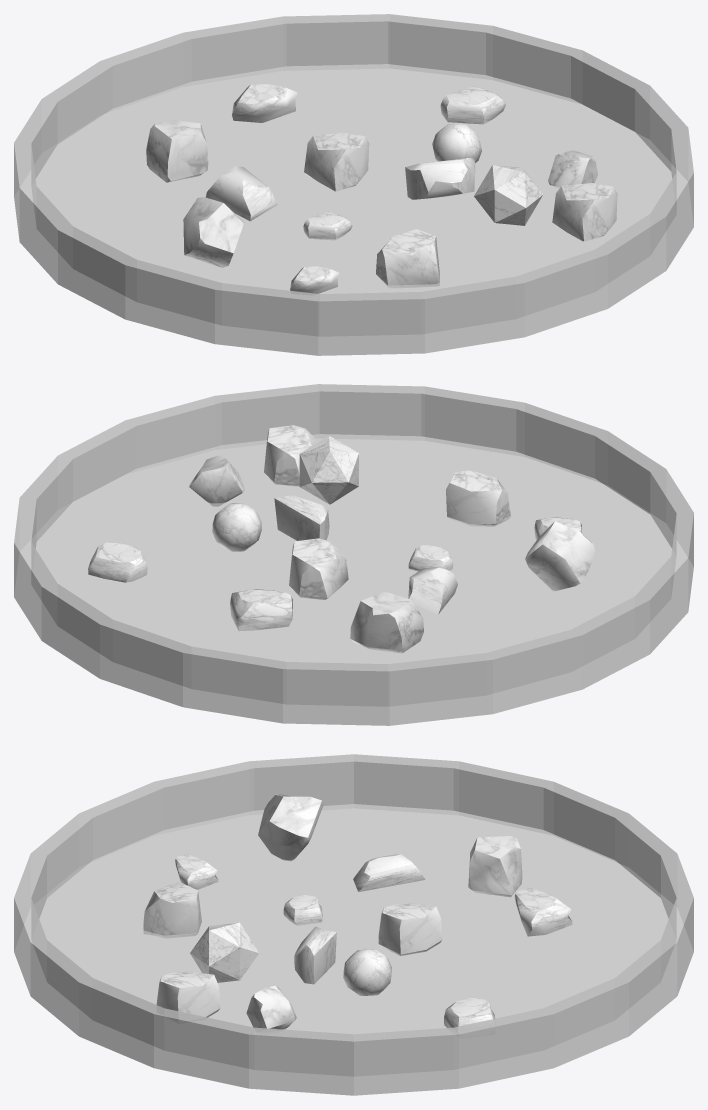
File: marble.fbx
3 renders of one model, top to bottom at view 1: azimuth 30°, elevation 25°; view 2: azimuth 150°, elevation 25°; view 3: azimuth 270°, elevation 25°, orthographic.
Parts seen in each view (by area): view 1: pCylinder2, Stone_1_Low.002, Stone_1_Low, Stone_2_Low, Stone_2_Low.002, Stone_2_Low.001, pPlatonic1, Stone_3_Low.002, Stone_3_Low.001, Stone_4_Low.002, Stone_5_Low.002, pSolid1 (+3 smaller); view 2: pCylinder2, Stone_1_Low.002, Stone_1_Low, pPlatonic1, Stone_2_Low, Stone_2_Low.002, Stone_4_Low.002, Stone_2_Low.001, Stone_3_Low.002, pSolid1, Stone_5_Low.002, Stone_1_Low.001 (+2 smaller); view 3: pCylinder2, Stone_1_Low, Stone_1_Low.002, Stone_2_Low.002, pPlatonic1, Stone_2_Low, Stone_2_Low.001, Stone_4_Low.002, pSolid1, Stone_3_Low.001, Stone_3_Low.002, Stone_1_Low.001 (+3 smaller).
Part boxes in pixels (<box>): pCylinder2: <box>14,14,693,355</box>; Stone_1_Low.002: <box>146,120,208,182</box>; Stone_1_Low: <box>183,197,243,267</box>; Stone_2_Low: <box>376,229,439,287</box>; Stone_2_Low.002: <box>304,132,369,191</box>; Stone_2_Low.001: <box>552,183,617,241</box>; pPlatonic1: <box>474,165,543,225</box>; Stone_3_Low.002: <box>405,157,475,199</box>; Stone_3_Low.001: <box>205,165,277,221</box>; Stone_4_Low.002: <box>232,84,297,122</box>; Stone_5_Low.002: <box>440,86,505,124</box>; pSolid1: <box>432,124,481,163</box>; pCylinder2: <box>14,384,693,725</box>; Stone_1_Low.002: <box>350,591,423,653</box>; Stone_1_Low: <box>525,521,595,591</box>; pPlatonic1: <box>299,435,358,504</box>; Stone_2_Low: <box>446,470,510,526</box>; Stone_2_Low.002: <box>289,538,348,599</box>; Stone_4_Low.002: <box>230,589,292,631</box>; Stone_2_Low.001: <box>264,425,317,486</box>; Stone_3_Low.002: <box>274,495,329,540</box>; pSolid1: <box>212,503,261,551</box>; Stone_5_Low.002: <box>88,542,147,582</box>; Stone_1_Low.001: <box>189,455,244,506</box>; pCylinder2: <box>14,754,693,1095</box>; Stone_1_Low: <box>258,794,323,860</box>; Stone_1_Low.002: <box>468,836,522,897</box>; Stone_2_Low.002: <box>378,903,442,955</box>; pPlatonic1: <box>190,922,258,982</box>; Stone_2_Low: <box>142,881,201,938</box>; Stone_2_Low.001: <box>156,971,220,1017</box>; Stone_4_Low.002: <box>514,888,572,936</box>; pSolid1: <box>343,949,391,995</box>; Stone_3_Low.001: <box>353,854,425,891</box>; Stone_3_Low.002: <box>294,926,336,984</box>; Stone_1_Low.001: <box>246,986,296,1029</box>.
Bounding box in the file's own units: 25.33 × 3.09 × 25.33.
